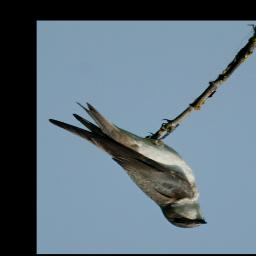Swallow: (48, 101, 208, 229)
